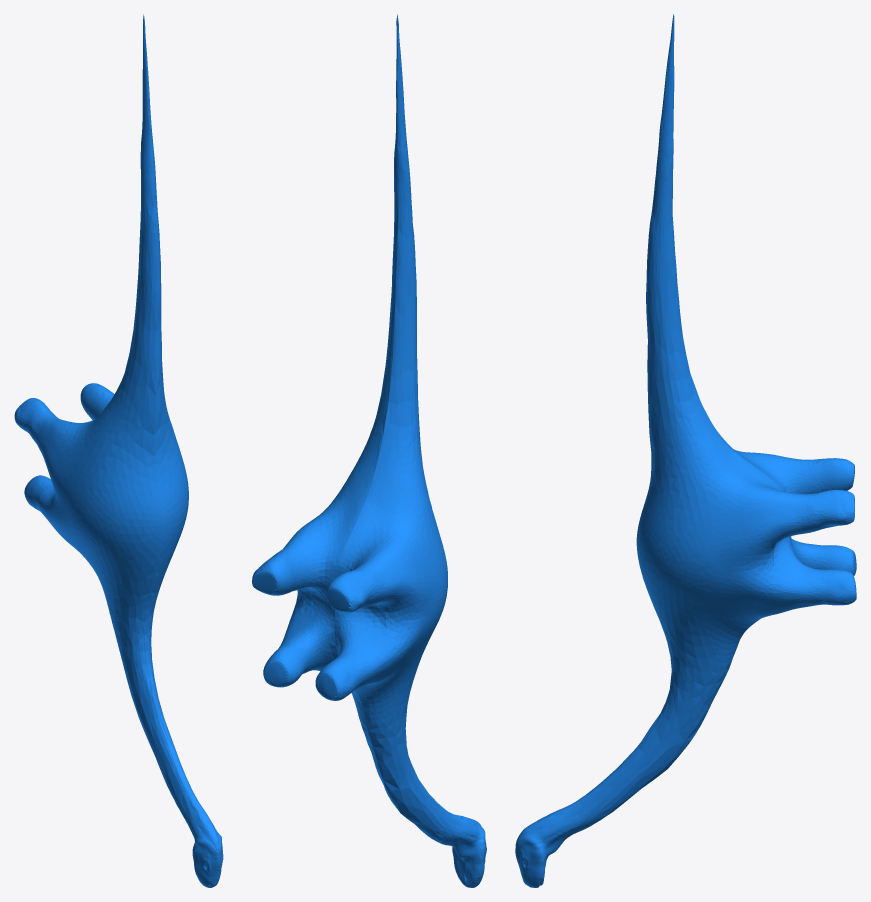
The model's file is mokele.obj.
3 views of the same model, side by side, from view 1: azimuth 30°, elevation 25°; view 2: azimuth 150°, elevation 25°; view 3: azimuth 270°, elevation 25° (orthographic). The views are drawn at different scales.
Visible parts, largest first — view 1: Mokele-Entity292962; view 2: Mokele-Entity292962; view 3: Mokele-Entity292962.
Part boxes in pixels (x1=…): Mokele-Entity292962: x1=14, y1=14, x2=223, y2=887; Mokele-Entity292962: x1=252, y1=14, x2=486, y2=887; Mokele-Entity292962: x1=515, y1=14, x2=856, y2=887.
Size of the model in its own units: 19.96 by 141 by 49.87.
